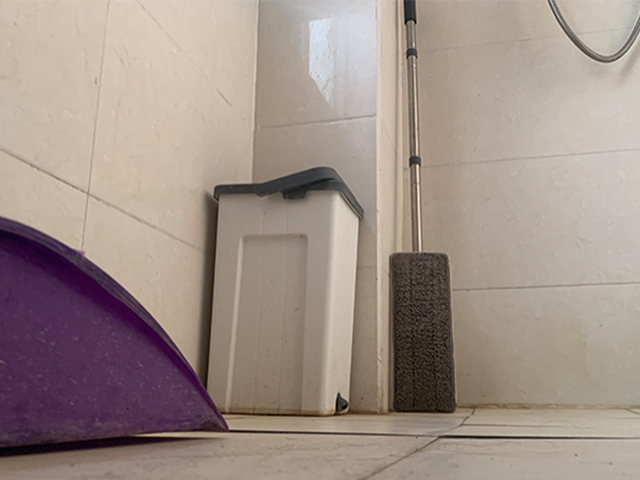trashcan: (206, 165, 363, 417)
